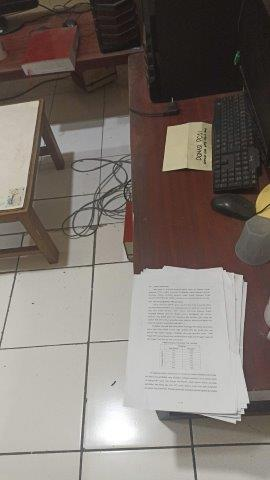kertas: (127, 267, 248, 422)
